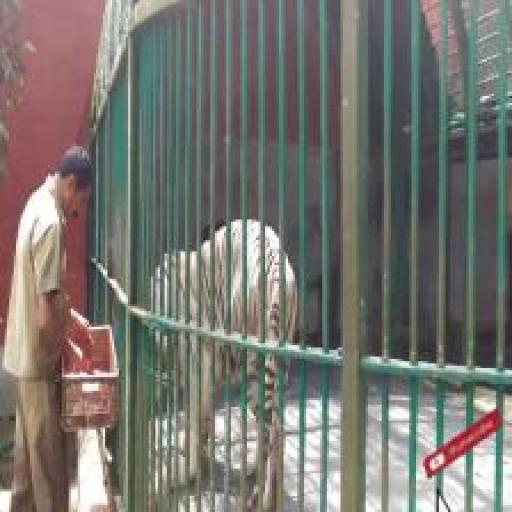Elephant: (152, 224, 299, 504)
